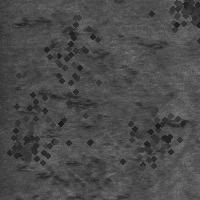rolled-in_scale: (25, 27, 166, 158), (15, 117, 191, 194), (0, 53, 107, 173), (14, 1, 118, 105), (107, 91, 195, 179), (150, 0, 200, 51), (0, 121, 49, 173), (163, 0, 200, 33)
